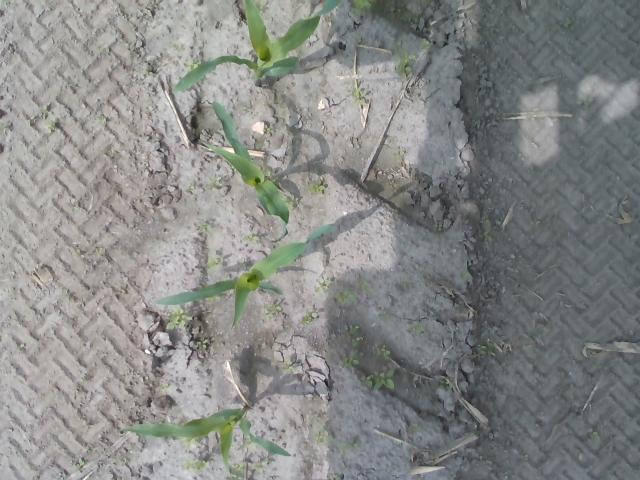Maize: (153, 224, 336, 332), (170, 0, 342, 94), (202, 95, 290, 242), (120, 404, 294, 478)
Weeds: (366, 368, 396, 393), (164, 307, 193, 330), (395, 47, 416, 75), (182, 459, 208, 472), (314, 431, 335, 447), (260, 302, 279, 318), (336, 289, 353, 306), (308, 181, 326, 195), (376, 346, 392, 361), (302, 310, 318, 324), (352, 87, 365, 104), (206, 255, 222, 268), (354, 0, 374, 10), (280, 360, 294, 374), (411, 321, 424, 335), (344, 356, 359, 368), (208, 174, 223, 186), (317, 281, 329, 293), (188, 60, 198, 72), (358, 280, 368, 292), (352, 336, 362, 348), (236, 463, 243, 480), (460, 270, 471, 280), (421, 38, 430, 50), (196, 340, 207, 349), (208, 294, 220, 302), (47, 122, 56, 132), (246, 235, 256, 243), (264, 125, 270, 134)
